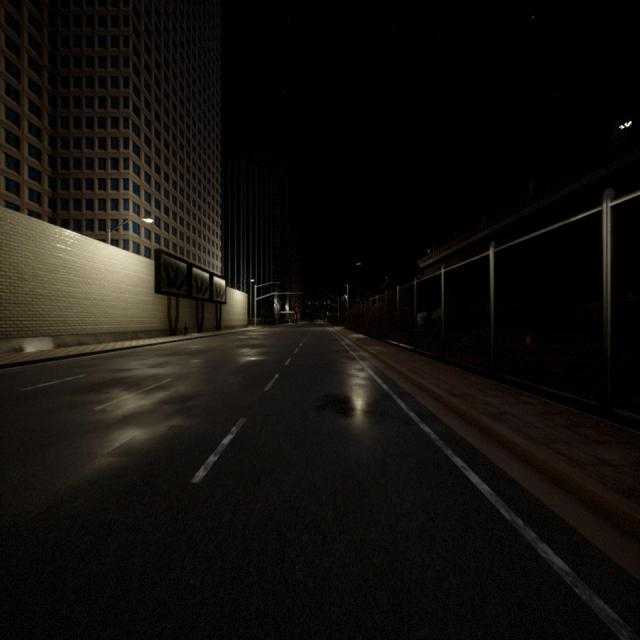Pedestrian: (183, 321, 188, 337)
traffic_light: (337, 313, 339, 316), (308, 302, 310, 304), (324, 302, 325, 305), (316, 302, 317, 304)
